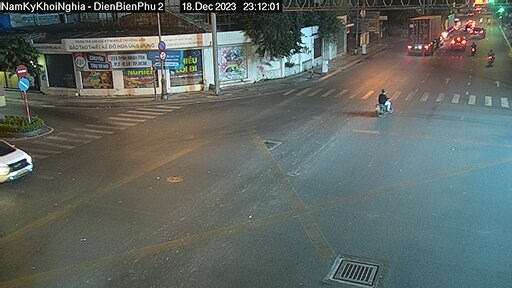car: (1, 127, 38, 195), (450, 35, 467, 55), (471, 25, 488, 37)
motorbike: (368, 89, 399, 114), (484, 47, 500, 64), (469, 42, 480, 54)
truck: (404, 13, 441, 55)
